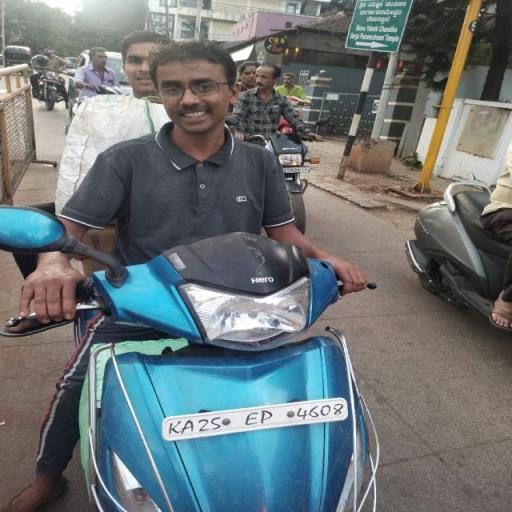bike: (0, 27, 384, 512)
numberplate: (160, 382, 349, 444)
withouthelmet: (151, 46, 237, 129), (123, 32, 160, 90)
